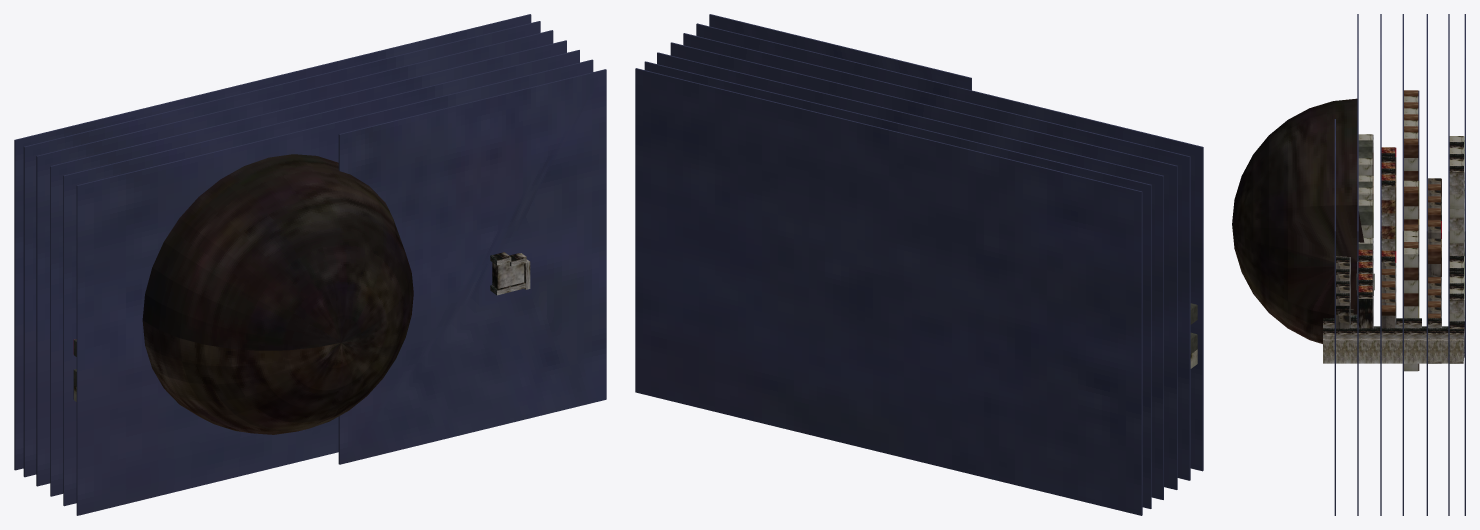
File: hospitalv6.glb
The picture shows the model from 3 angles, left to right: view 1: azimuth 30°, elevation 25°; view 2: azimuth 150°, elevation 25°; view 3: azimuth 270°, elevation 25°; orthographic projection. The views are drawn at different scales.
Parts seen in each view (by area): view 1: Connected building night foundation.006, Sphere, Connected building night foundation.005, Connected building night foundation.002, Connected building night foundation.003, Connected building night foundation.004, Connected building night foundation.001, Connected building night foundation, Wall_Underground Maze.191; view 2: Connected building night foundation, Connected building night foundation.003, Connected building night foundation.004, Connected building night foundation.005, Connected building night foundation.002, Connected building night foundation.001, Connected building night foundation.006; view 3: Sphere, Connected building night foundation.002, Connected building night foundation.003, Connected building night foundation.004, Connected building night foundation.005, Connected building night foundation, Connected building night foundation.001, Connected building night foundation.006, Wall_Second Floor.183, Wall_Underground Maze.156, Wall_Underground Maze.168, Wall_Underground Maze.171 (+6 smaller).
Part boxes in pixels (x1=…): Connected building night foundation.006: x1=338, y1=69, x2=606, y2=464; Sphere: x1=142, y1=154, x2=413, y2=434; Connected building night foundation.005: x1=76, y1=59, x2=593, y2=515; Connected building night foundation.002: x1=36, y1=30, x2=553, y2=486; Connected building night foundation.003: x1=50, y1=40, x2=566, y2=496; Connected building night foundation.004: x1=63, y1=50, x2=579, y2=506; Connected building night foundation.001: x1=23, y1=21, x2=540, y2=477; Connected building night foundation: x1=14, y1=14, x2=531, y2=470; Wall_Underground Maze.191: x1=492, y1=253, x2=526, y2=288; Connected building night foundation: x1=635, y1=68, x2=1142, y2=515; Connected building night foundation.003: x1=670, y1=42, x2=1177, y2=489; Connected building night foundation.004: x1=683, y1=33, x2=1190, y2=480; Connected building night foundation.005: x1=696, y1=23, x2=1203, y2=471; Connected building night foundation.002: x1=657, y1=52, x2=1163, y2=499; Connected building night foundation.001: x1=644, y1=61, x2=1151, y2=508; Connected building night foundation.006: x1=709, y1=14, x2=971, y2=90; Sphere: x1=1232, y1=98, x2=1364, y2=343; Connected building night foundation.002: x1=1426, y1=14, x2=1427, y2=515; Connected building night foundation.003: x1=1402, y1=14, x2=1403, y2=515; Connected building night foundation.004: x1=1380, y1=14, x2=1381, y2=515; Connected building night foundation.005: x1=1357, y1=14, x2=1358, y2=515; Connected building night foundation: x1=1464, y1=14, x2=1465, y2=515; Connected building night foundation.001: x1=1448, y1=14, x2=1449, y2=515; Connected building night foundation.006: x1=1334, y1=119, x2=1335, y2=515; Wall_Second Floor.183: x1=1358, y1=299, x2=1372, y2=328; Wall_Underground Maze.156: x1=1407, y1=338, x2=1421, y2=363; Wall_Underground Maze.168: x1=1379, y1=338, x2=1393, y2=363; Wall_Underground Maze.171: x1=1365, y1=338, x2=1379, y2=363.
Bounding box in the file's own units: 360 × 220 × 164.
Materials: 75 (73 with a texture image).
